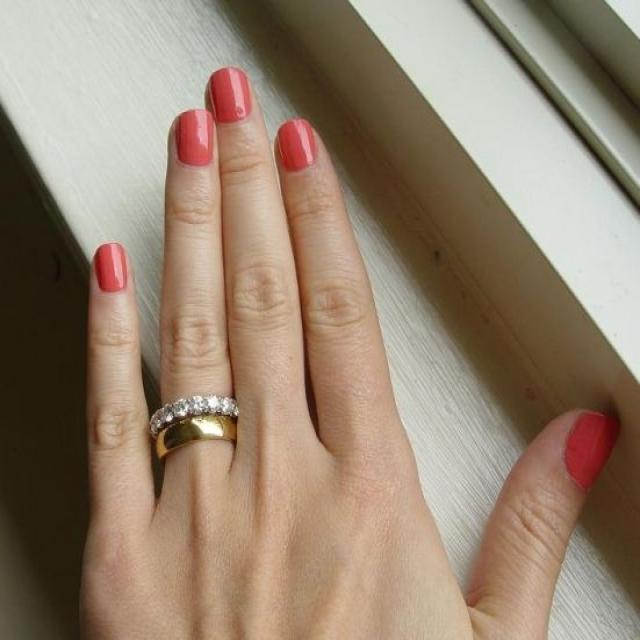Fingernail: (565, 412, 620, 491), (210, 68, 252, 124), (176, 109, 215, 166), (278, 120, 318, 172), (94, 243, 127, 293)
